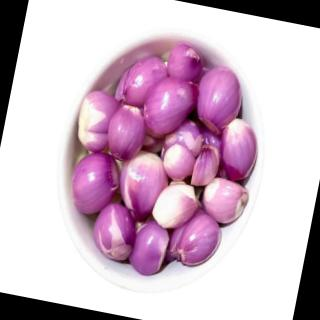Bawang Merah: (64, 147, 125, 222), (188, 61, 249, 136), (100, 100, 153, 165)
